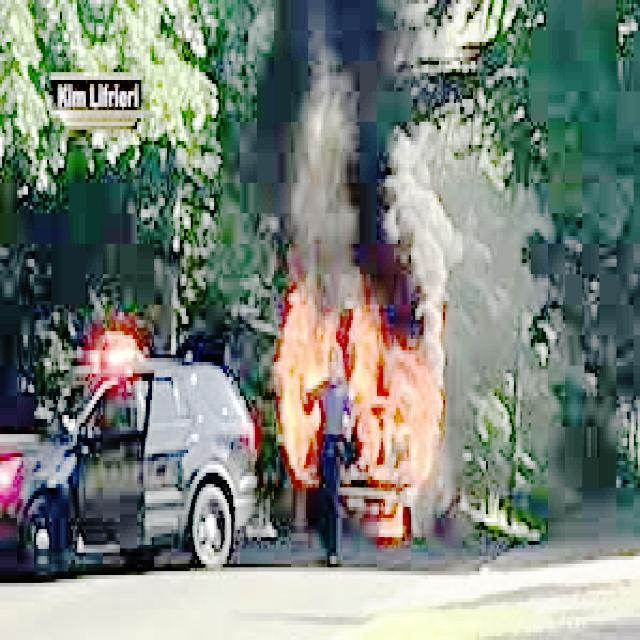api: (273, 283, 448, 519)
